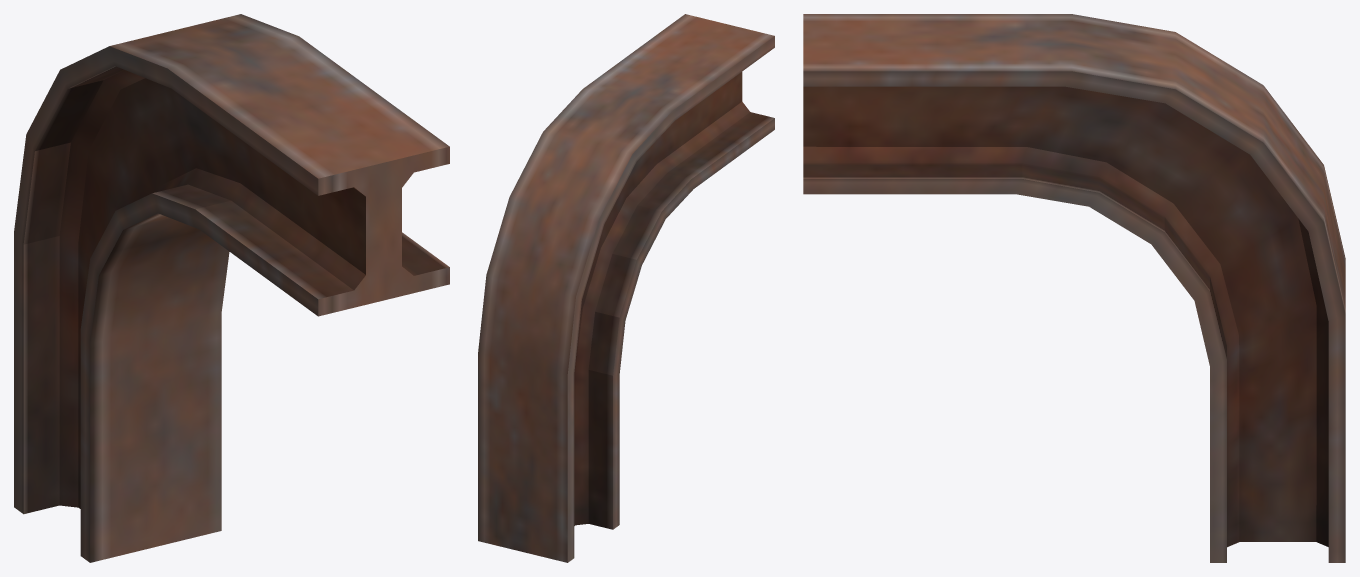
Rendered from welder_girder_roof_to_wall_small.dae.
The picture shows the model from 3 angles, left to right: view 1: azimuth 30°, elevation 25°; view 2: azimuth 150°, elevation 25°; view 3: azimuth 270°, elevation 25°; orthographic projection. The views are drawn at different scales.
Visible parts, largest first — view 1: polySurface2; view 2: polySurface2; view 3: polySurface2.
Part boxes in pixels (x1,y1,x2,y2): polySurface2: (14, 14, 449, 562); polySurface2: (478, 14, 774, 562); polySurface2: (803, 14, 1345, 562).
Bounding box in the file's own units: 0.25 × 1 × 1.
Materials: 1 (1 with a texture image).
